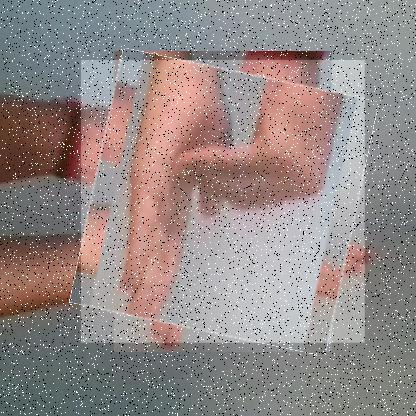Z: (81, 60, 366, 344)
